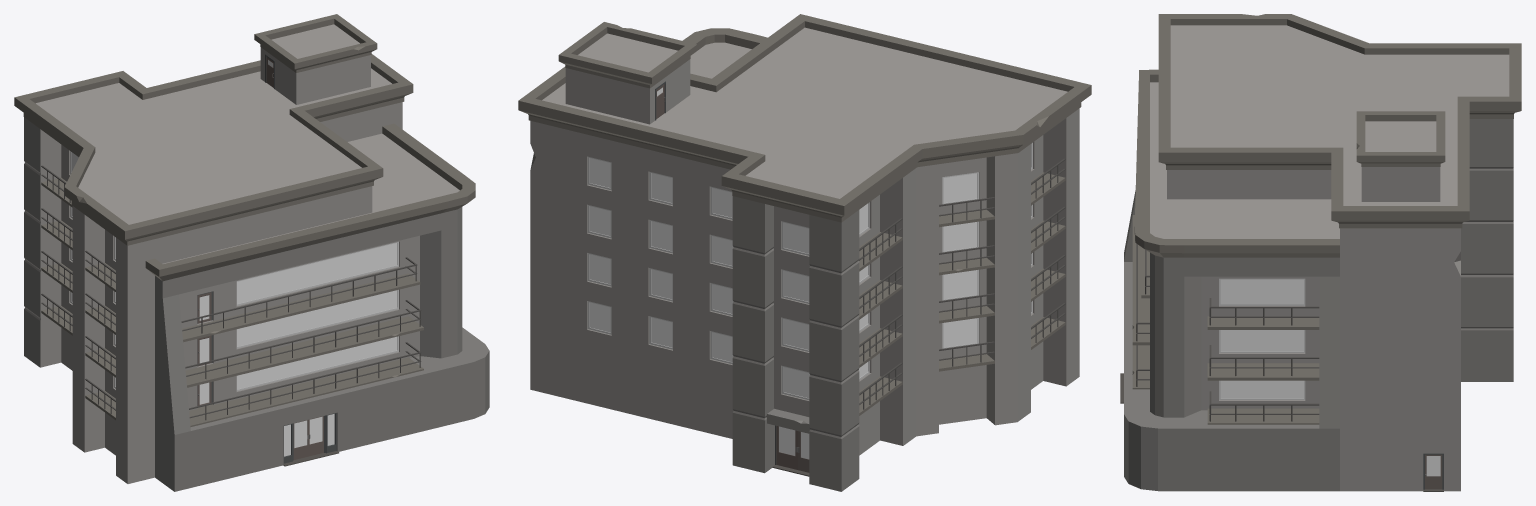
File: SM_Bldg_City_Commercial_06.fbx
The picture shows the model from 3 angles, left to right: view 1: azimuth 30°, elevation 25°; view 2: azimuth 150°, elevation 25°; view 3: azimuth 270°, elevation 25°; orthographic projection. The views are drawn at different scales.
Parts seen in each view (by area): view 1: SM_Bldg_City_Commercial_06, SM_Bldg_City_Commercial_06_Glass; view 2: SM_Bldg_City_Commercial_06, SM_Bldg_City_Commercial_06_Glass; view 3: SM_Bldg_City_Commercial_06, SM_Bldg_City_Commercial_06_Glass.
Part boxes in pixels (bbox=[...]): SM_Bldg_City_Commercial_06: bbox=[14, 14, 489, 491]; SM_Bldg_City_Commercial_06_Glass: bbox=[71, 152, 397, 456]; SM_Bldg_City_Commercial_06: bbox=[518, 14, 1091, 491]; SM_Bldg_City_Commercial_06_Glass: bbox=[589, 144, 1031, 398]; SM_Bldg_City_Commercial_06: bbox=[1120, 14, 1521, 491]; SM_Bldg_City_Commercial_06_Glass: bbox=[1220, 279, 1303, 398].
Size of the model in its own units: 2700 by 2081 by 2320.
